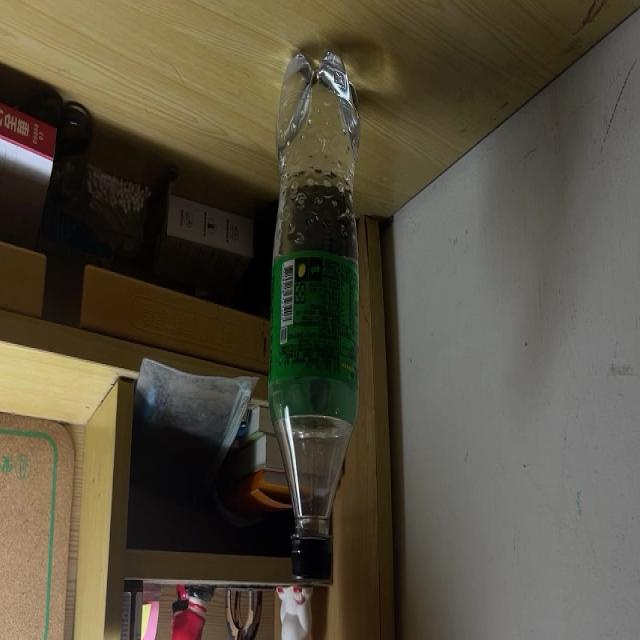Sprite: (272, 55, 358, 588)
